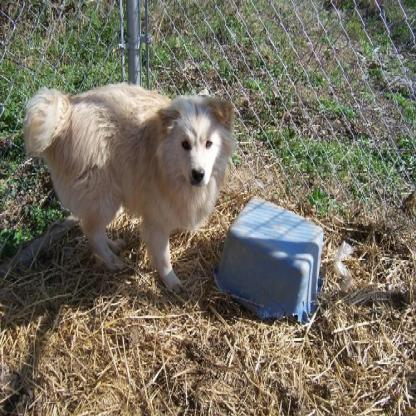Samoyed: (19, 70, 238, 300)
